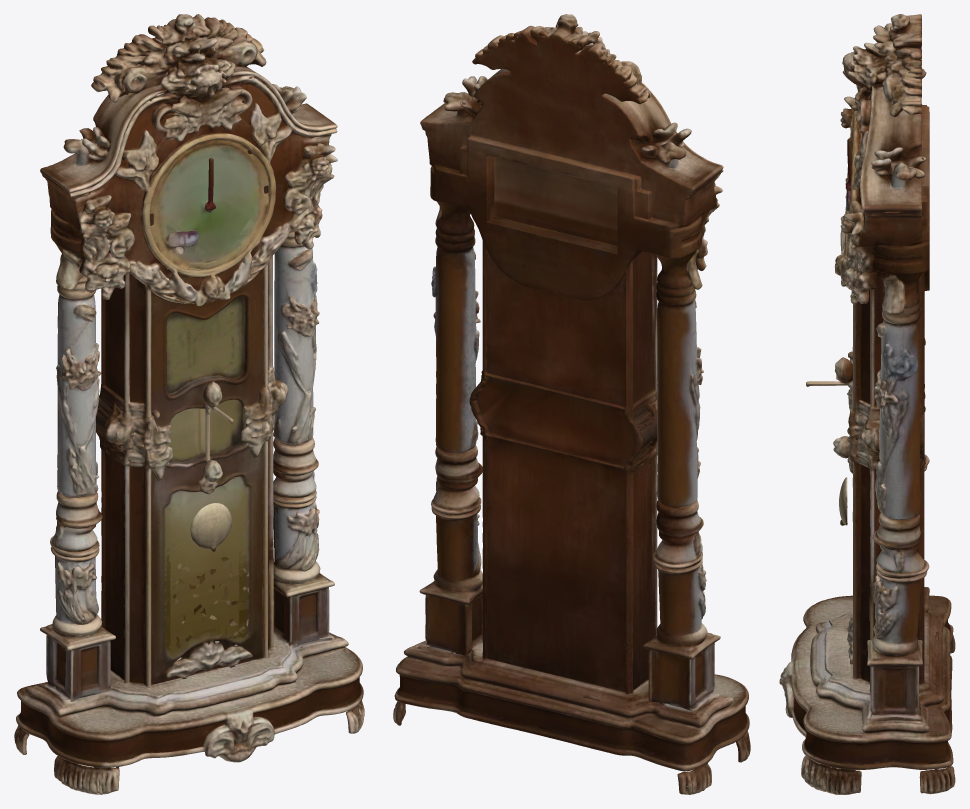
Rendered from jam.glb.
3 views of the same model, side by side, from view 1: azimuth 30°, elevation 25°; view 2: azimuth 150°, elevation 25°; view 3: azimuth 270°, elevation 25° (orthographic). The views are drawn at different scales.
Parts seen in each view (by area): view 1: geometry_0; view 2: geometry_0; view 3: geometry_0.
Part boxes in pixels (left/top/right/bottom): geometry_0: left=14, top=14, right=364, bottom=794; geometry_0: left=393, top=14, right=750, bottom=794; geometry_0: left=779, top=14, right=955, bottom=794.
Size of the model in its own units: 0.4459 by 1 by 0.2248.
1 material, 1 textured.
